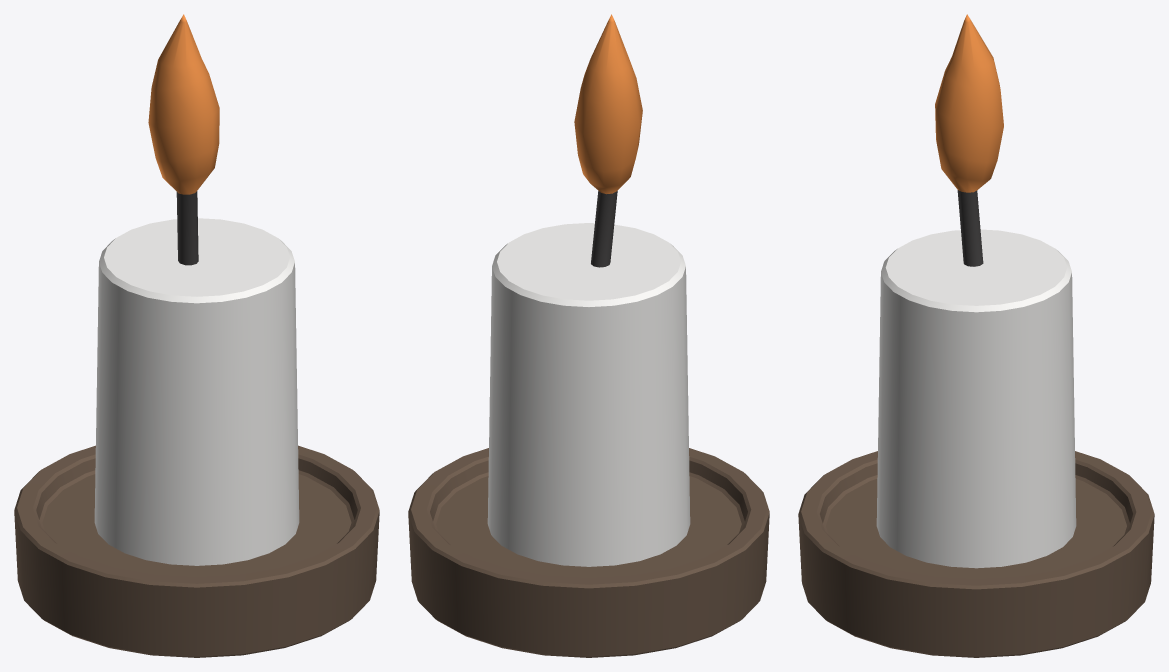
Rendered from Candle_2.glb.
The picture shows the model from 3 angles, left to right: view 1: azimuth 30°, elevation 25°; view 2: azimuth 150°, elevation 25°; view 3: azimuth 270°, elevation 25°; orthographic projection. The views are drawn at different scales.
Parts seen in each view (by area): view 1: Candle_2; view 2: Candle_2; view 3: Candle_2.
Part boxes in pixels (x1=…): Candle_2: x1=14, y1=14, x2=379, y2=657; Candle_2: x1=408, y1=14, x2=769, y2=657; Candle_2: x1=798, y1=14, x2=1154, y2=657.
Size of the model in its own units: 0.1463 by 0.255 by 0.1463.
Materials: 1 (1 with a texture image).
